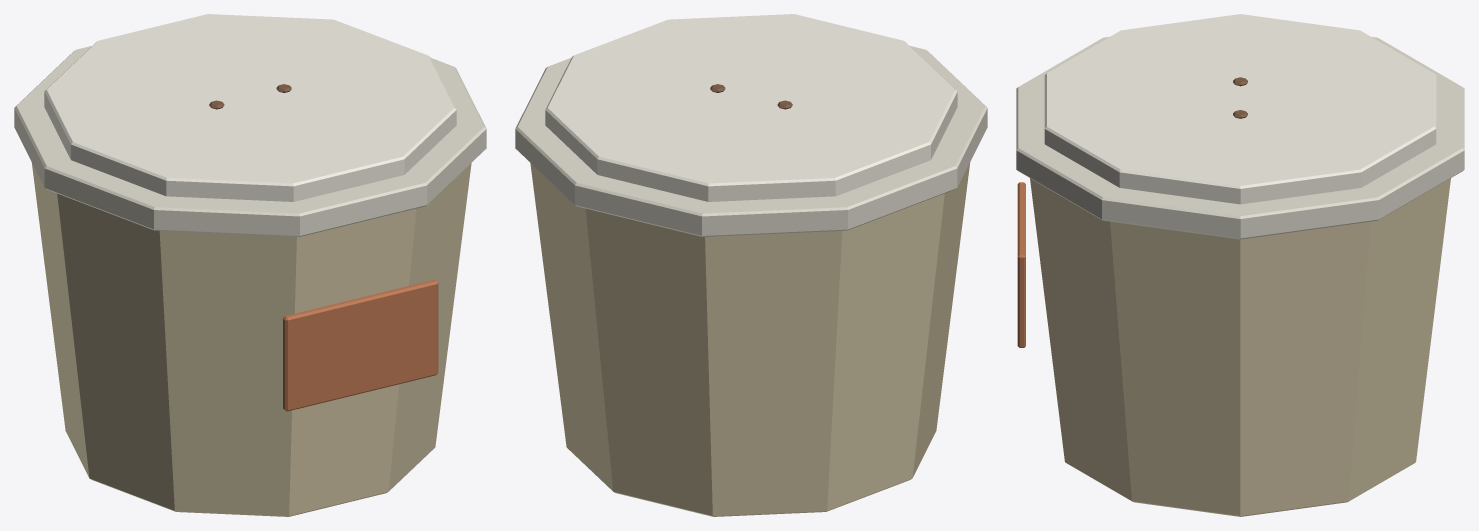
The model's file is b16_lidded_soup_cup.glb.
3 views of the same model, side by side, from view 1: azimuth 30°, elevation 25°; view 2: azimuth 150°, elevation 25°; view 3: azimuth 270°, elevation 25° (orthographic).
Visible parts, largest first — view 1: b16_lidded_soup_cup; view 2: b16_lidded_soup_cup; view 3: b16_lidded_soup_cup.
Boxes of the visible parts, x1,y1,x2,y2 form: b16_lidded_soup_cup: (14, 14, 486, 516); b16_lidded_soup_cup: (515, 14, 987, 516); b16_lidded_soup_cup: (1016, 14, 1464, 516).
Bounding box in the file's own units: 0.11 × 0.0885 × 0.1046.
